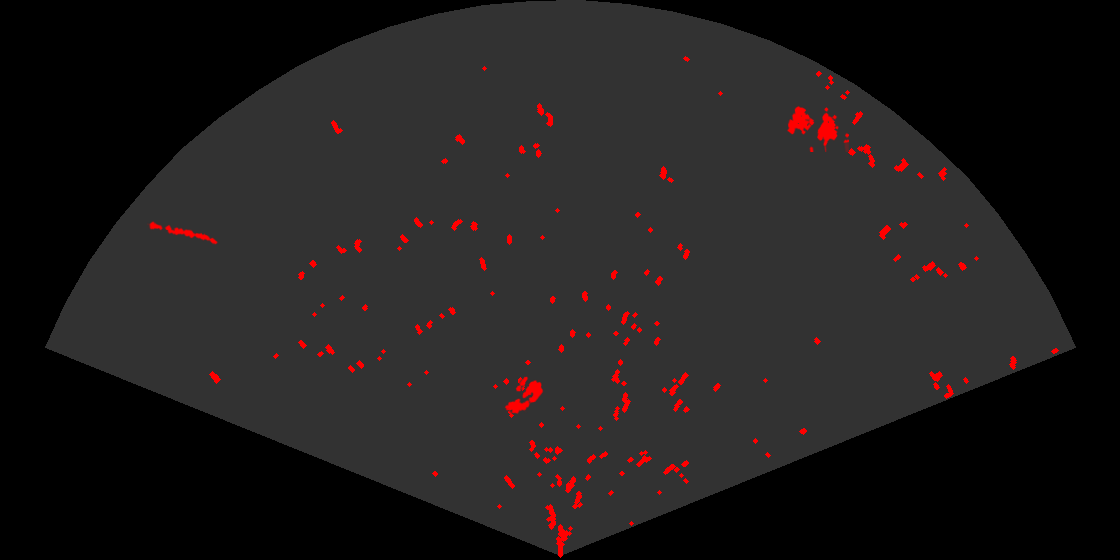AUV: (503, 397, 534, 416)
ball: (514, 375, 545, 405)
cage: (785, 104, 849, 152)
chain: (147, 220, 220, 246)
